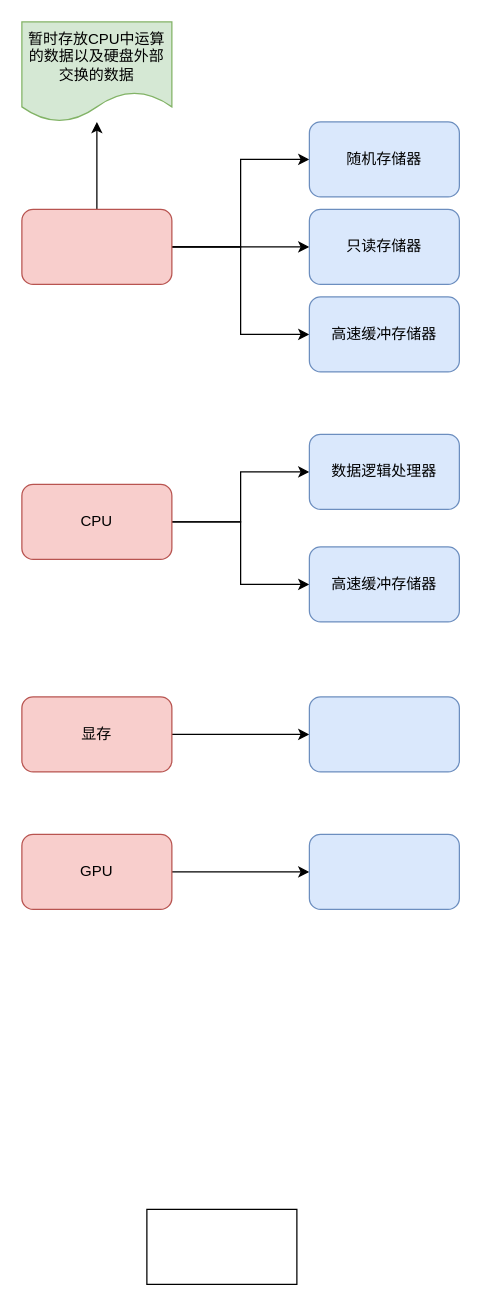
Some shapes in this 481 by 1306 pixel diagram are drawn without their labels. The shapes that lost their labels are listed below. From the top down, each one's centre as x and y in pixels, then its label:
pixel 96 246: 内存
pixel 383 734: 作用为显卡芯片处理和提取待渲染的数据
pixel 383 871: 显卡中不可或缺的部分，拥有超多运算 逻辑单元，超速处理数据
pixel 221 1246: 渲染CMDs
